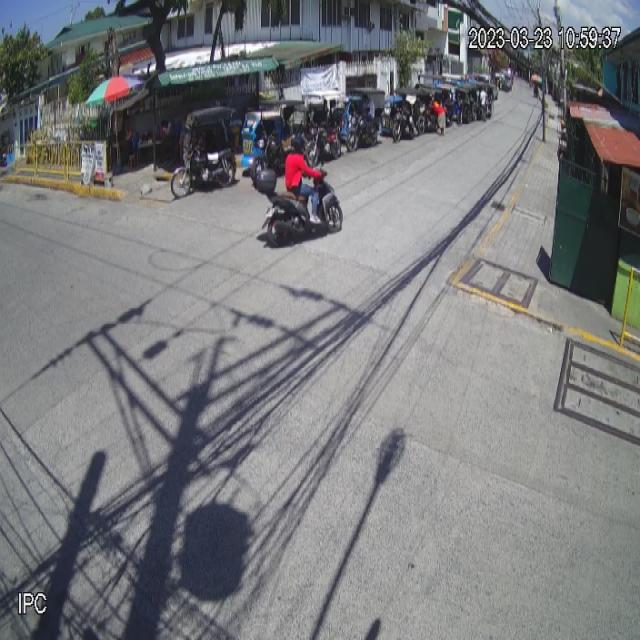Motorcycle: (251, 166, 343, 247)
